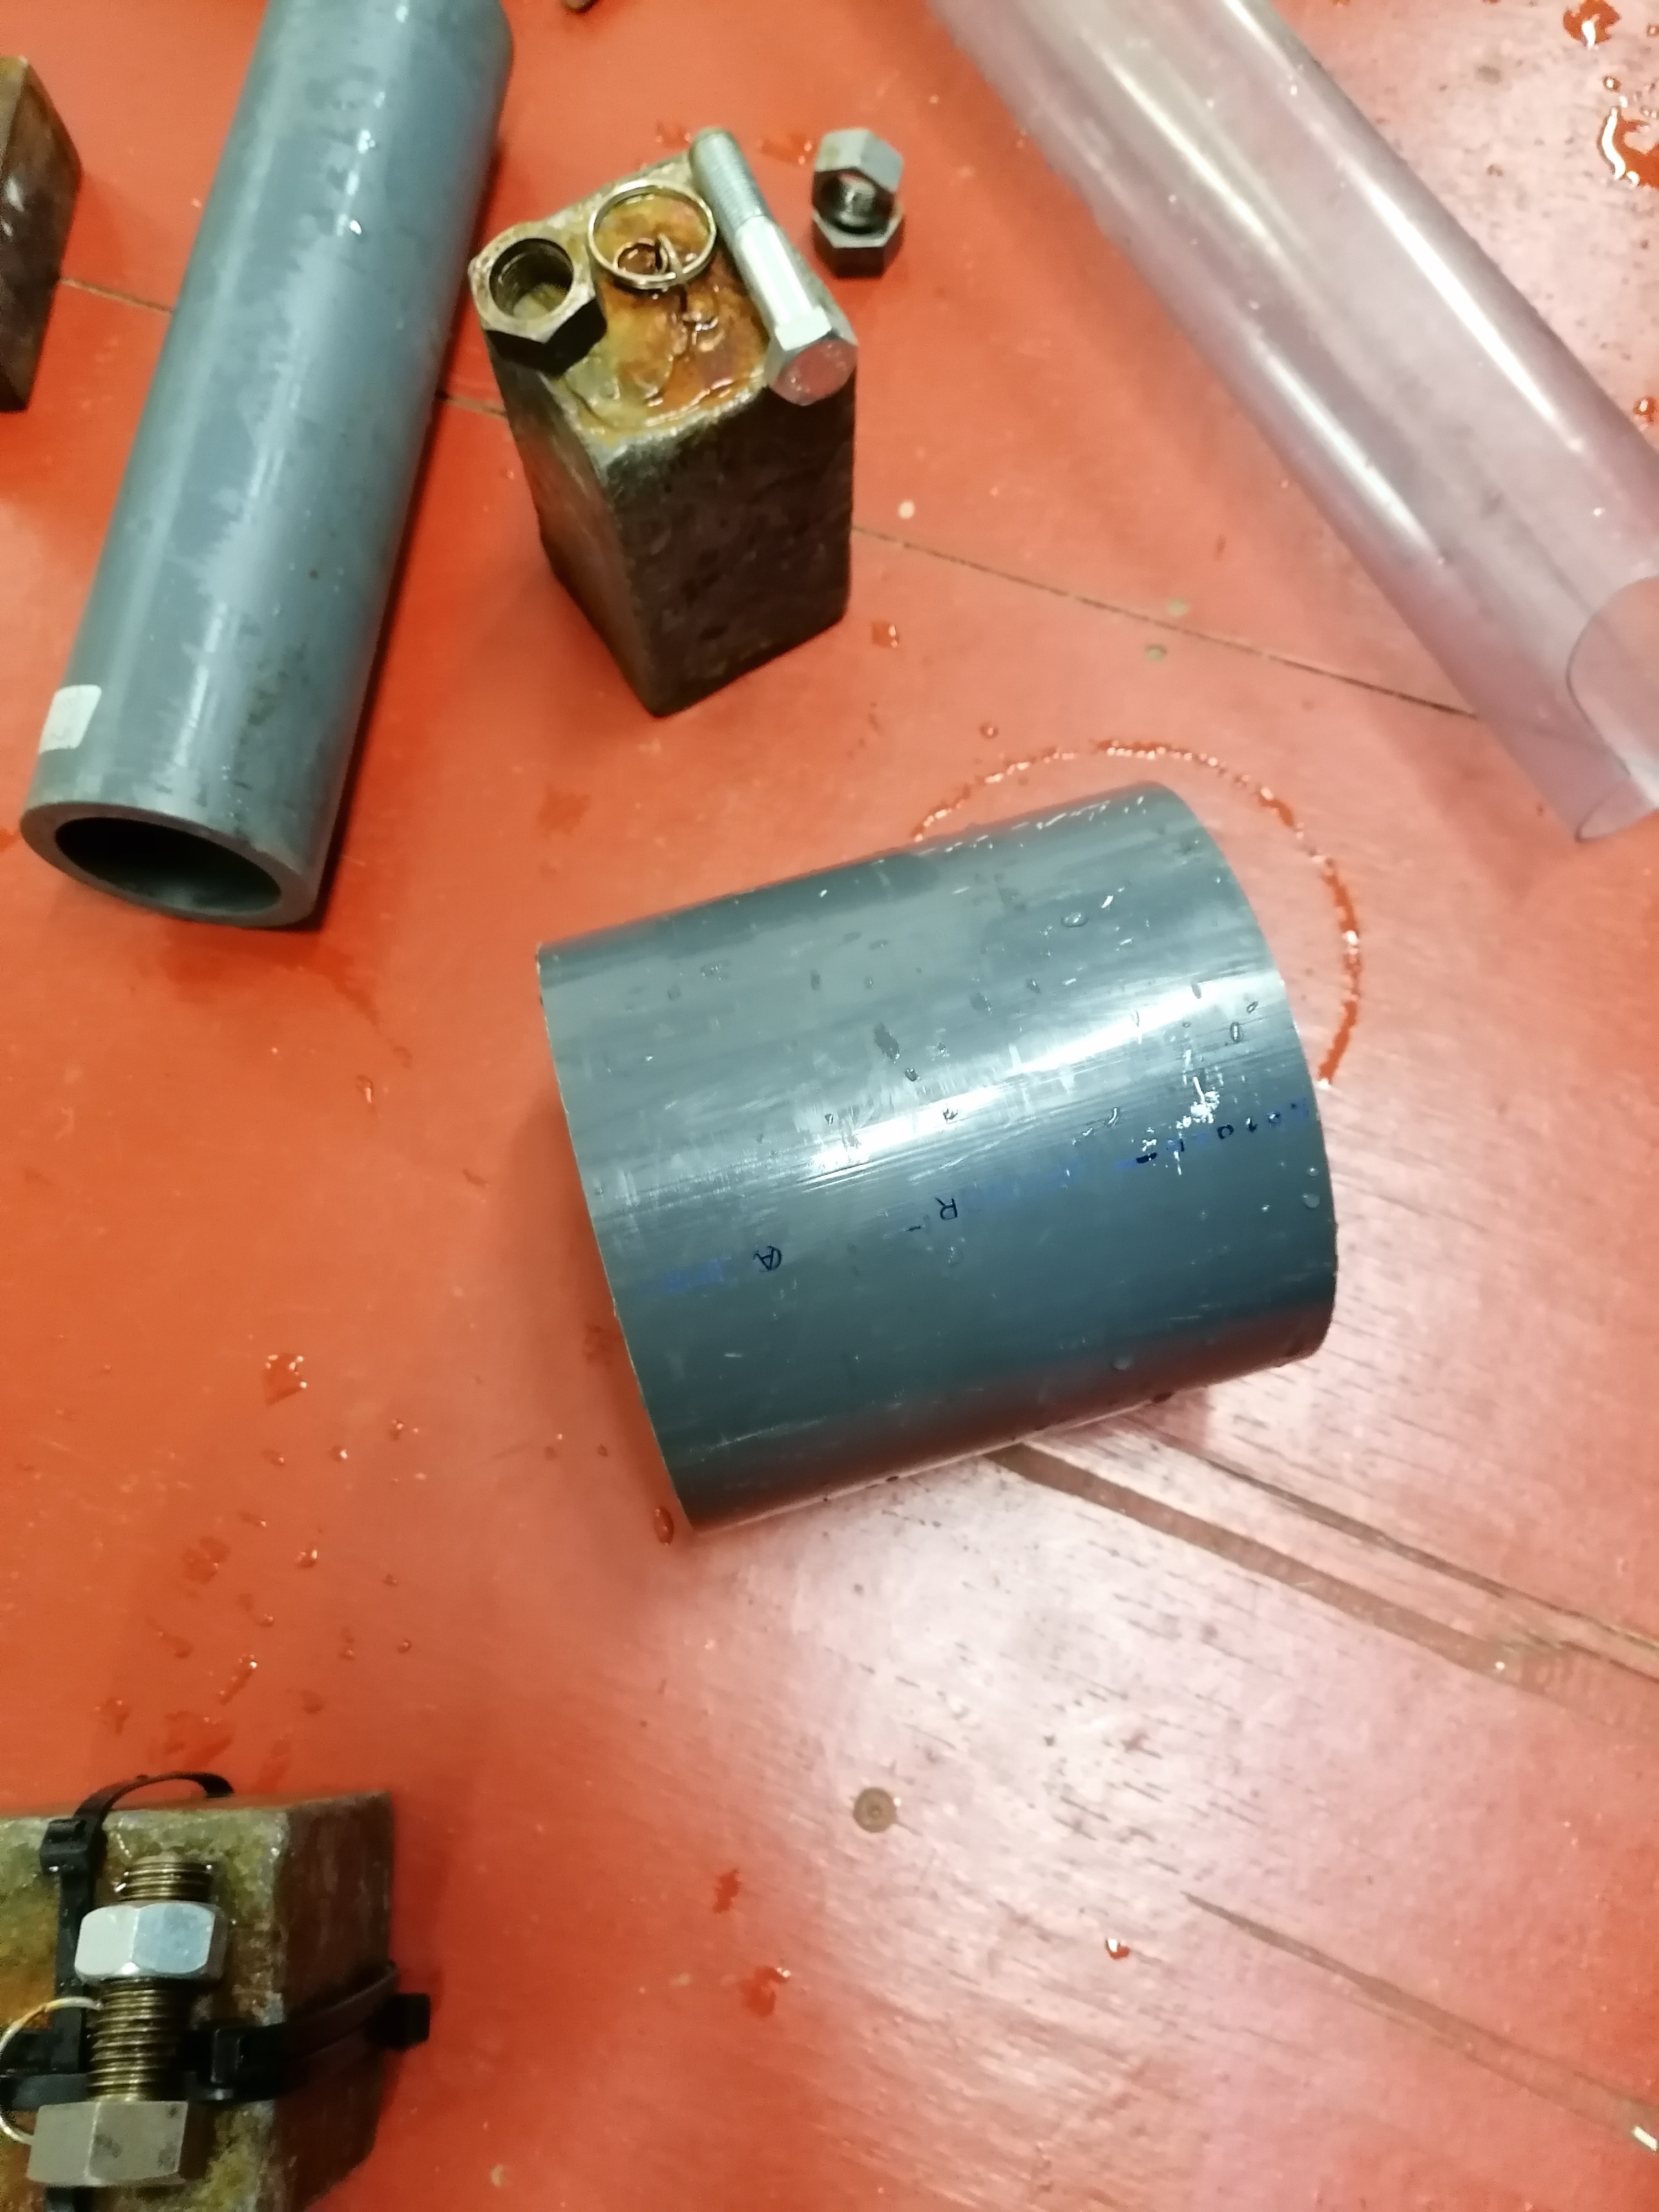bolt: (23, 1853, 211, 2191), (687, 125, 859, 408)
led_block: (467, 148, 857, 723), (0, 1770, 432, 2209), (0, 51, 84, 416)
nut: (465, 219, 608, 378), (70, 1900, 234, 1982), (810, 127, 904, 230), (812, 209, 906, 279)
pipe: (932, 0, 1657, 853), (532, 786, 1338, 1529), (17, 0, 521, 928)
